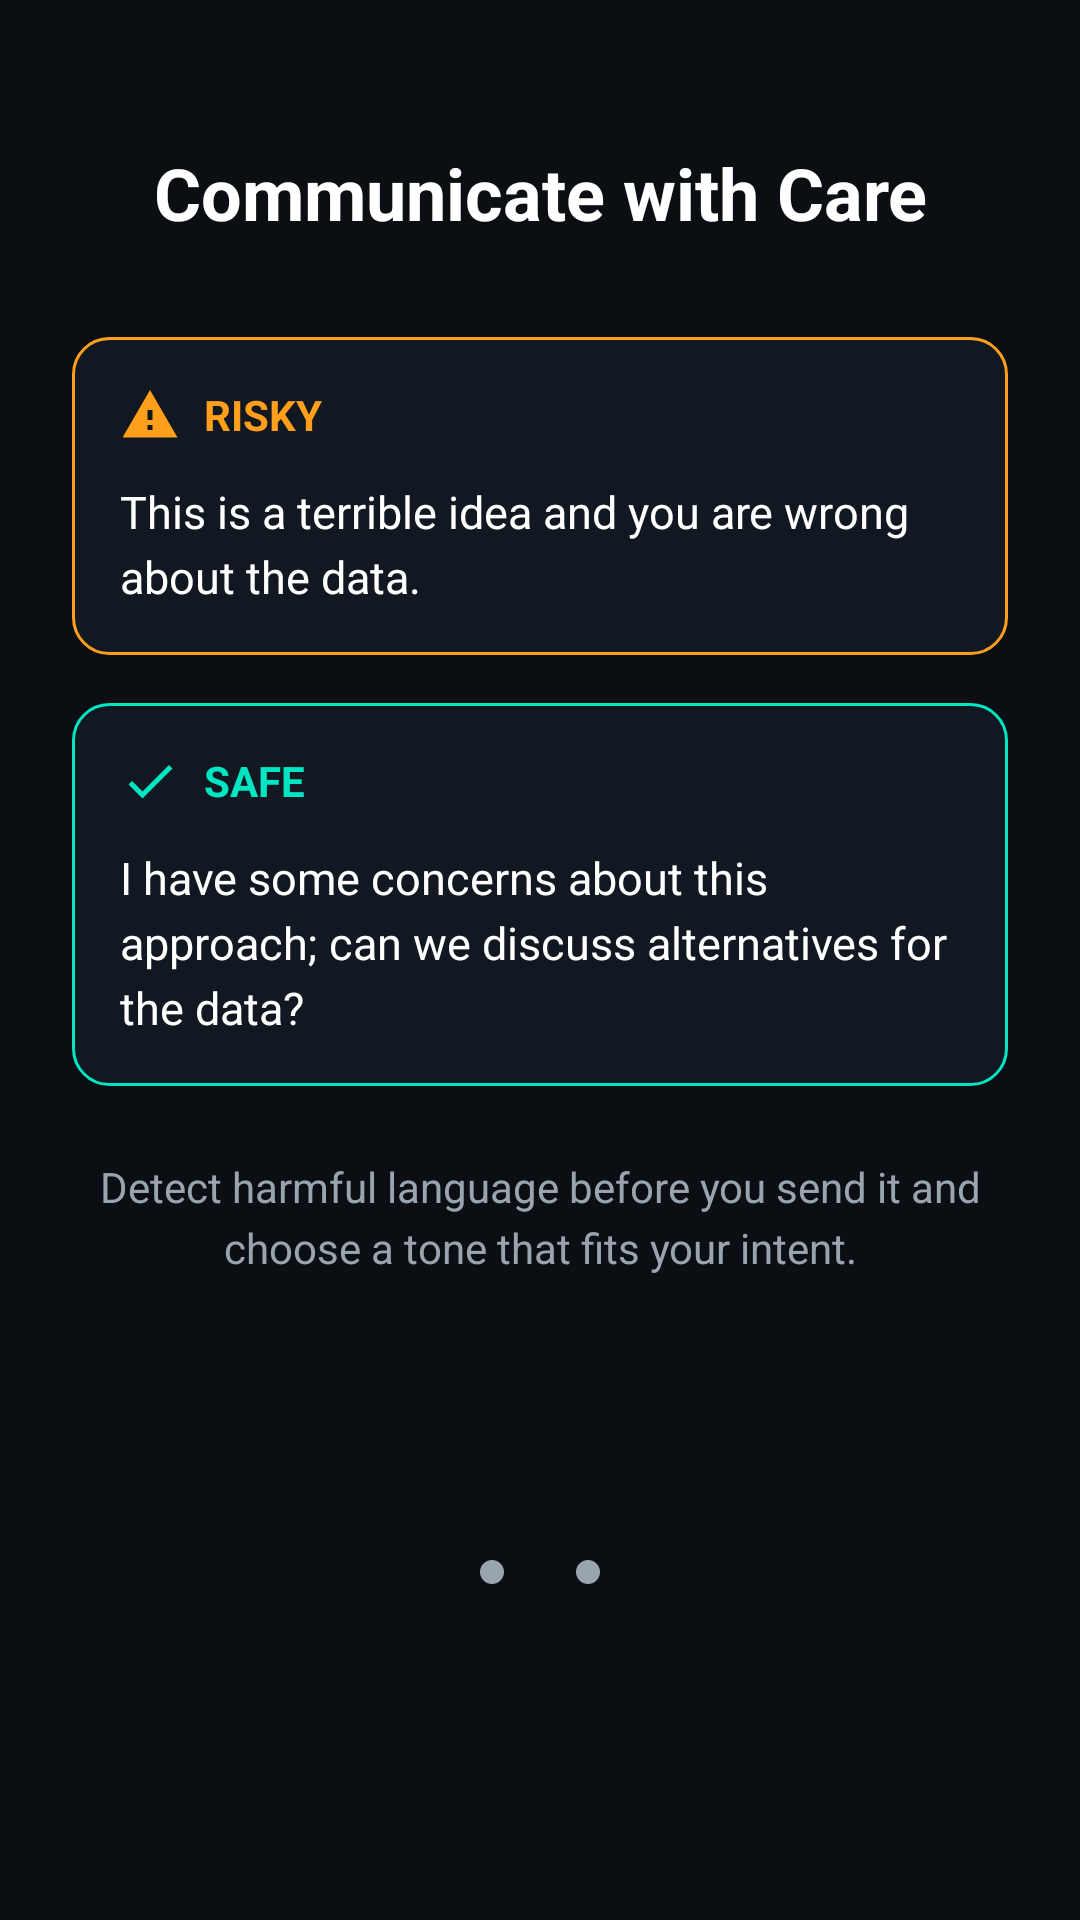

Where to tap for icons on this 1080*1920 app screen, as (x,y):
Warning: (150,414)
